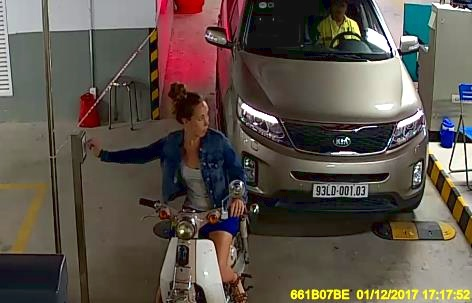plate: (312, 180, 370, 201)
